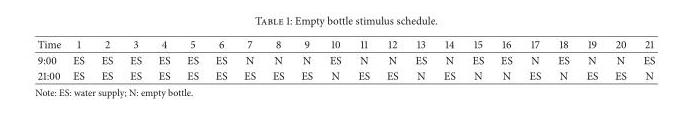table: (36, 36, 654, 82)
table column: (36, 36, 66, 82), (120, 36, 149, 82), (177, 36, 206, 82), (234, 36, 263, 82), (291, 36, 320, 82), (320, 36, 349, 82), (377, 36, 406, 82), (434, 36, 463, 82), (491, 36, 520, 82), (548, 36, 577, 82), (605, 36, 634, 82), (92, 36, 120, 82), (149, 36, 177, 82), (206, 36, 234, 82), (263, 36, 291, 82), (349, 36, 377, 82), (406, 36, 434, 82), (463, 36, 491, 82), (520, 36, 548, 82), (577, 36, 605, 82), (66, 36, 92, 82), (634, 36, 654, 82)
table column header: (36, 36, 654, 51)
table row: (36, 51, 654, 67), (36, 36, 654, 51), (36, 67, 654, 82)
